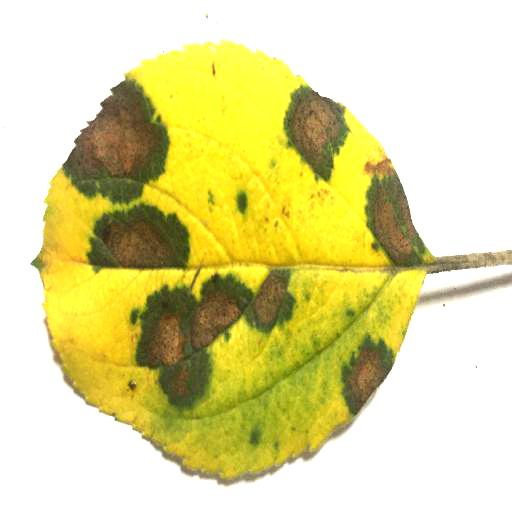Brown_Spot: (52, 95, 162, 197), (139, 290, 235, 391), (92, 209, 186, 268), (283, 93, 346, 174), (367, 180, 415, 266), (343, 345, 393, 407), (255, 272, 296, 322)
